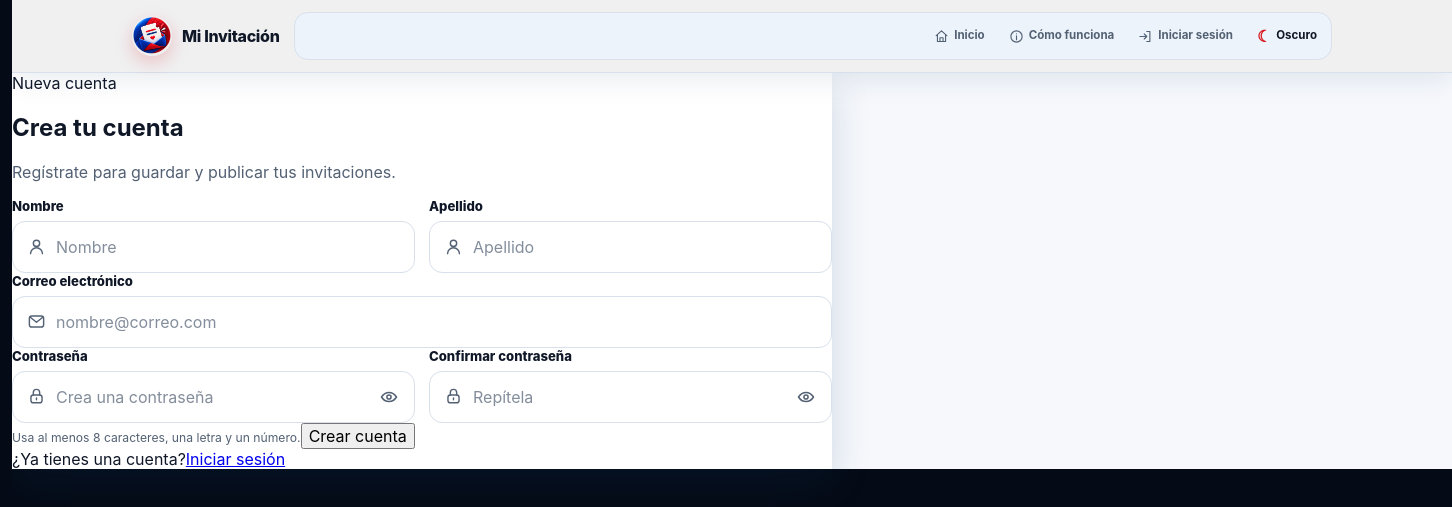
Test case: RegisterPage › shows an existing-account error without clearing the form
This screenshot has width=1452, height=507.
Step 1. Type "Ana" into the field labelled "Nombre" → coordinates (230, 247), box [46,222,414,272]
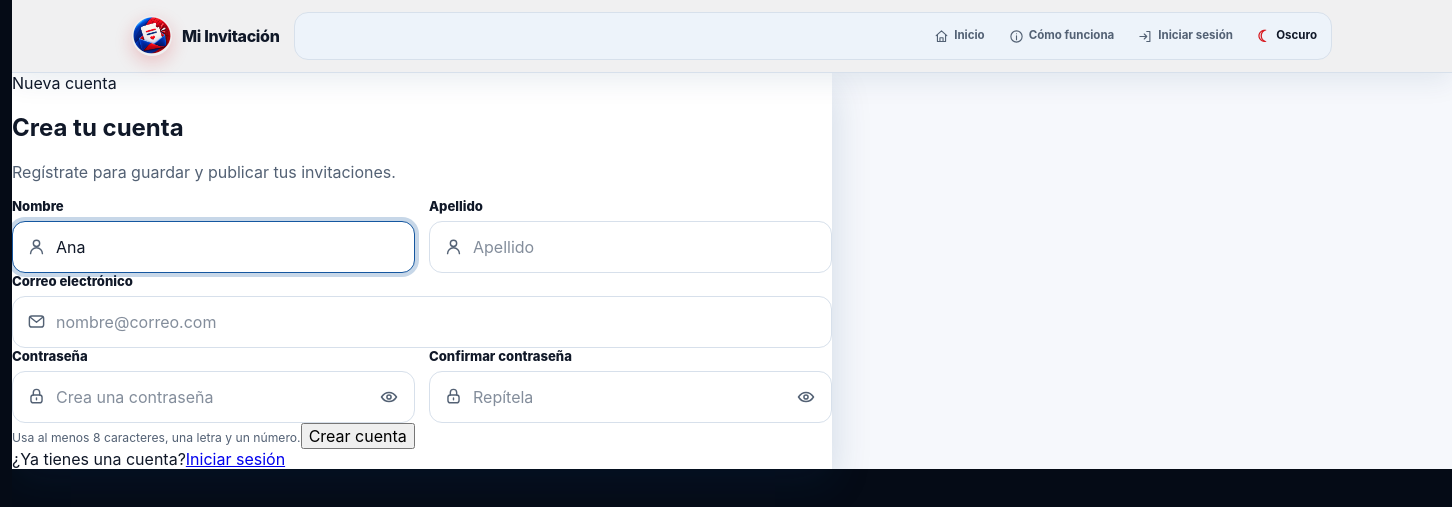
Step 2. Type "Pérez" into the field labelled "Apellido" → coordinates (647, 247), box [463,222,831,272]
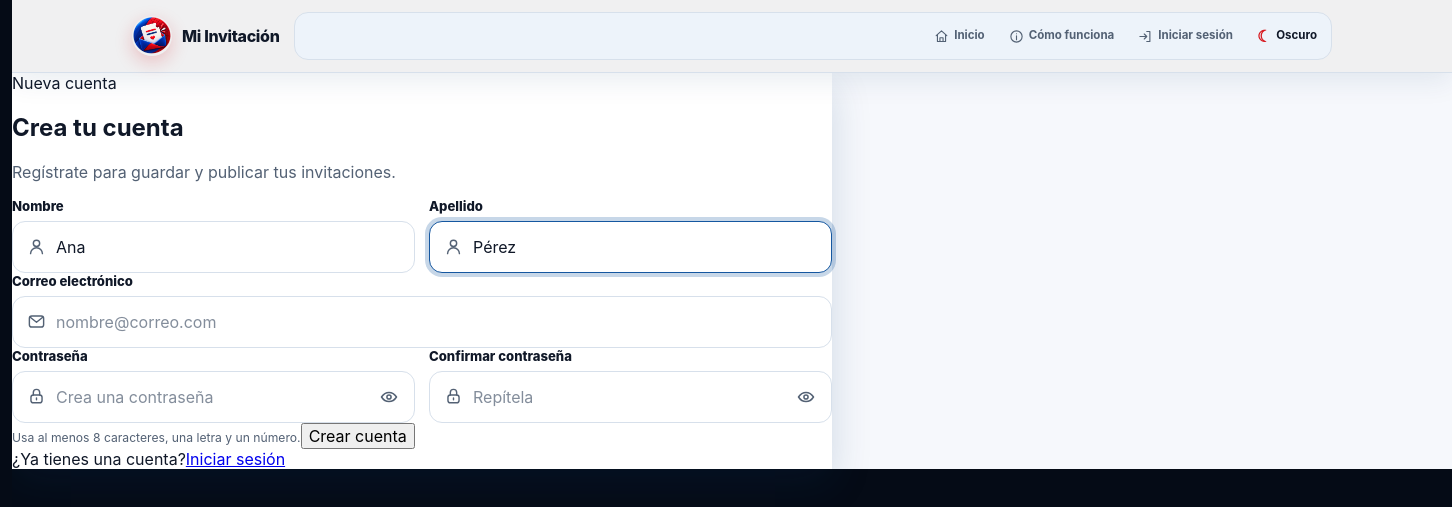
Step 3. Type "ana@example.com" into the field labelled "Correo electrónico" → coordinates (438, 322), box [46,297,831,347]
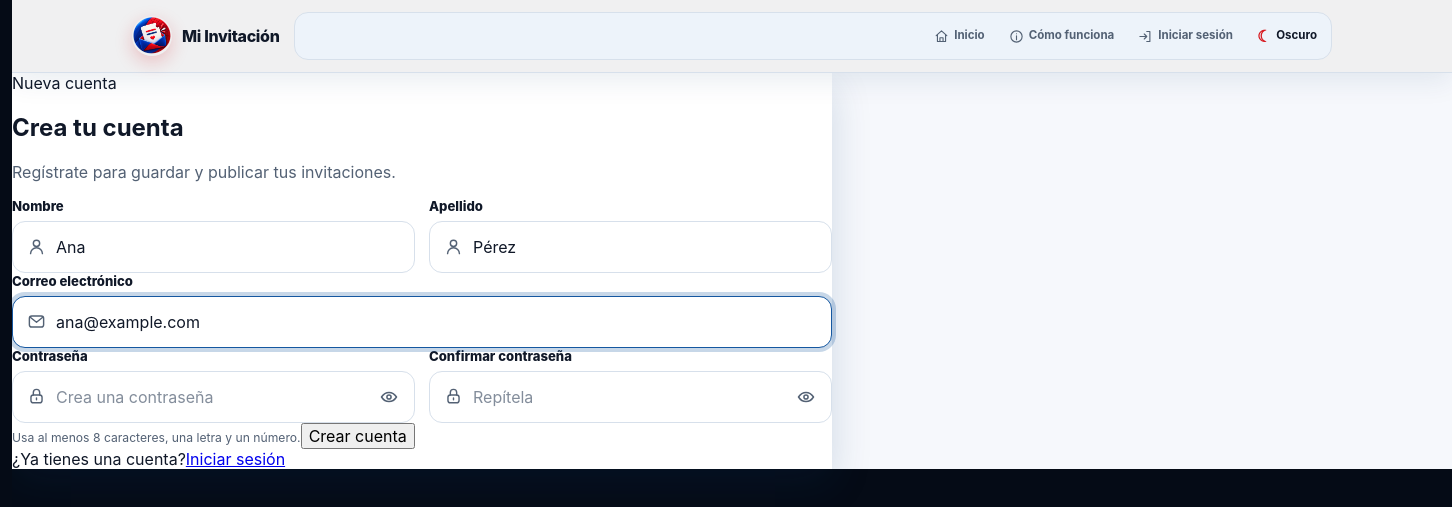
Step 4. Type "Password1" into the password field labelled "Contraseña" → coordinates (208, 397), box [46,372,370,422]
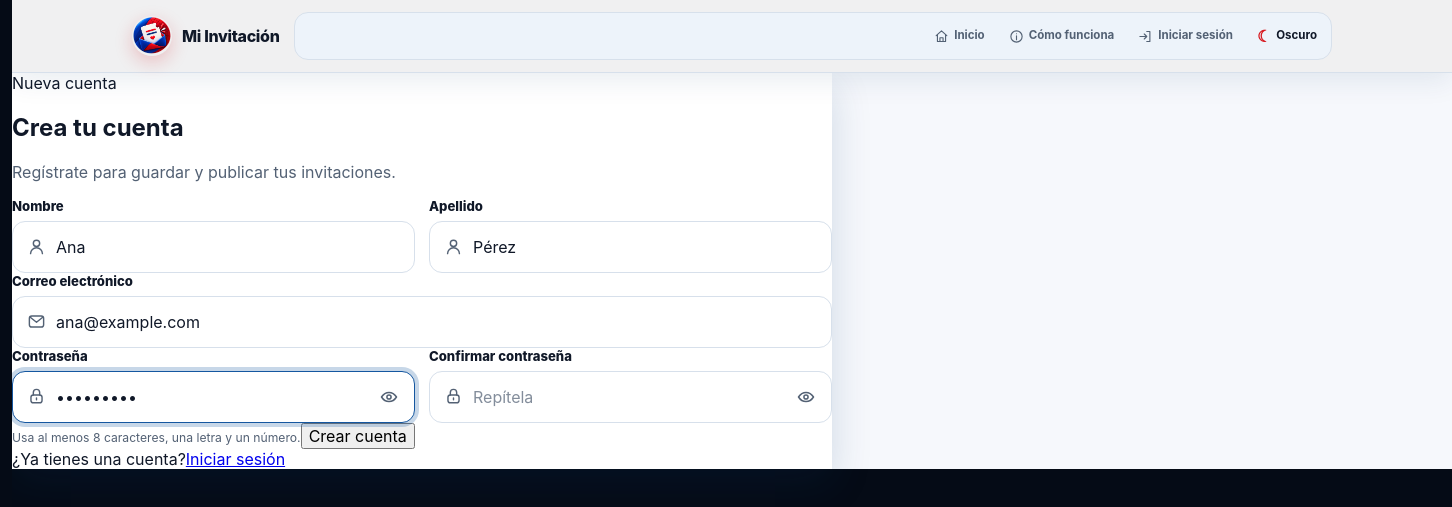
Step 5. Type "Password1" into the password field labelled "Confirmar contraseña" → coordinates (625, 397), box [463,372,787,422]
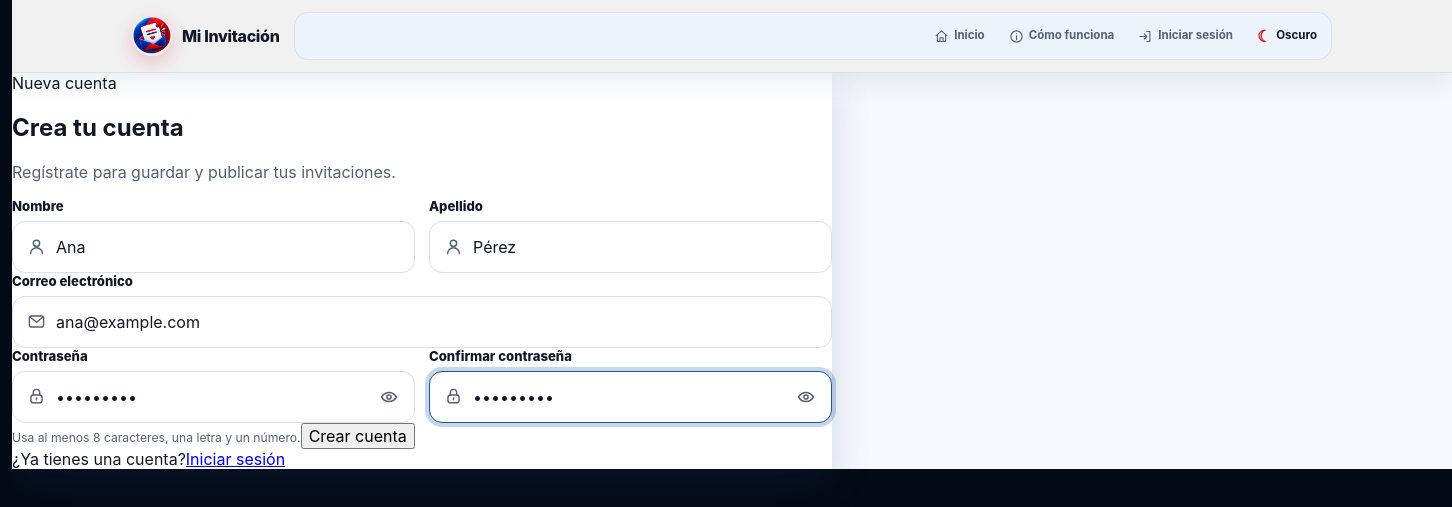
Step 6. Click the button "Crear cuenta" → coordinates (358, 436), box [301,423,415,449]
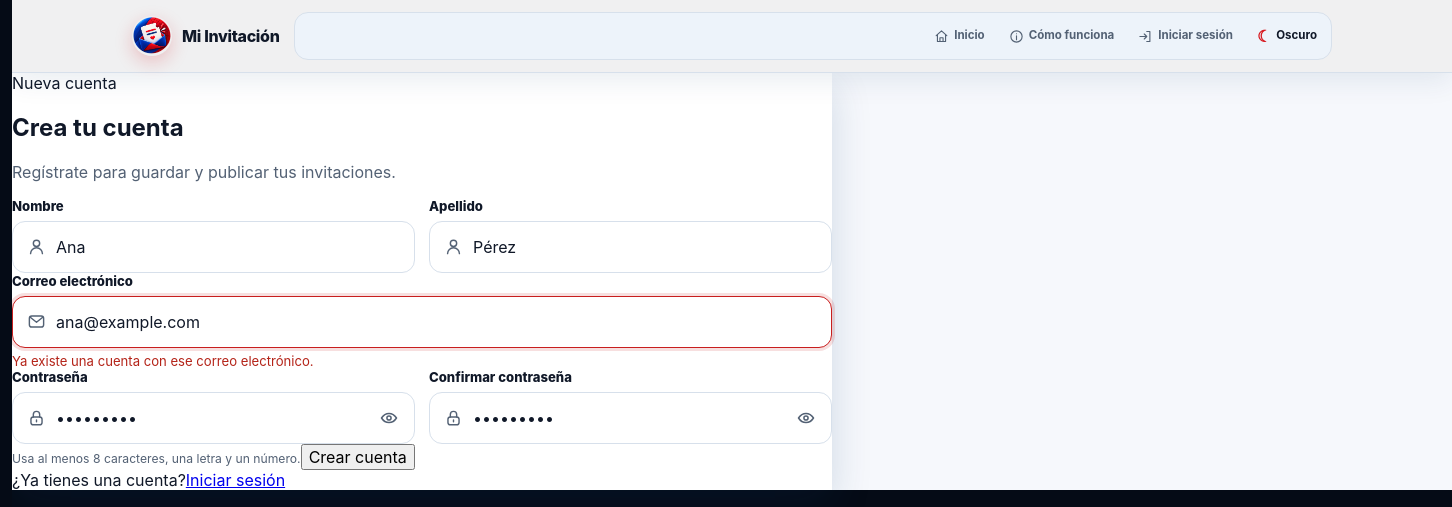
Expected: the message reads "Ya existe una cuenta con ese correo electrónico.", [12,353,314,369]
